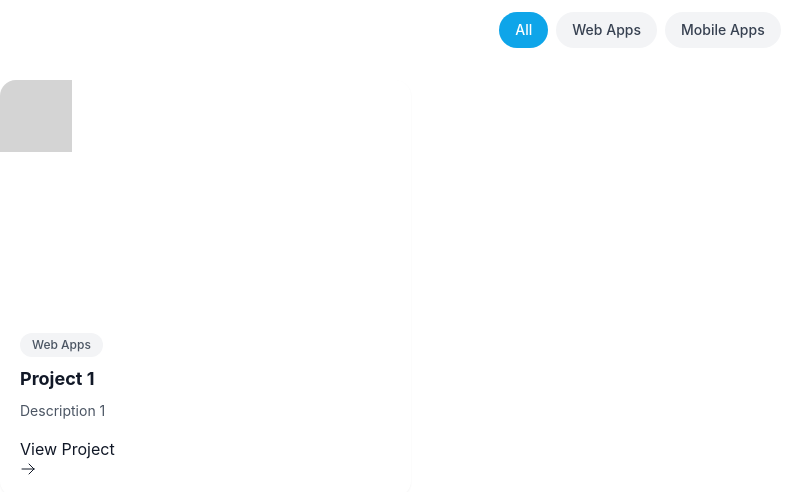
Scenario: ProjectGrid › Empty State › should show empty state when filter has no results
The image size is (798, 492).
// Filter to Mobile Apps (no projects)
Click the button "Mobile Apps" at coordinates (723, 30), box 665,12 -> 781,48
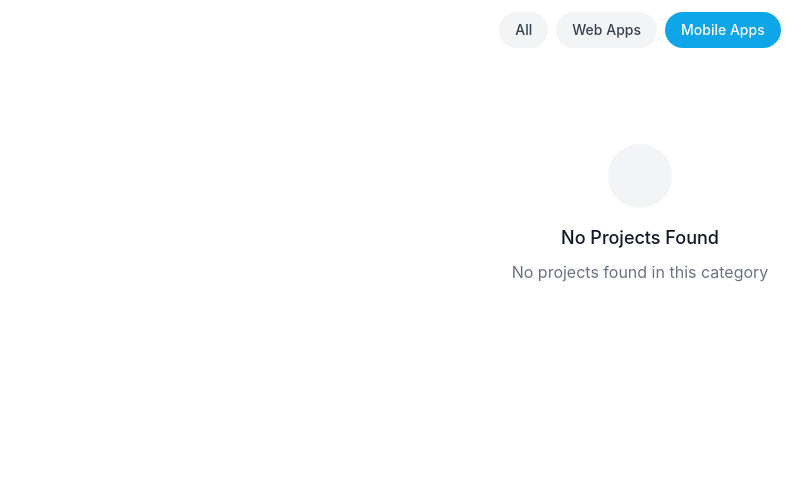
Check: the heading "No Projects Found" is shown, box 561,227 -> 719,248
